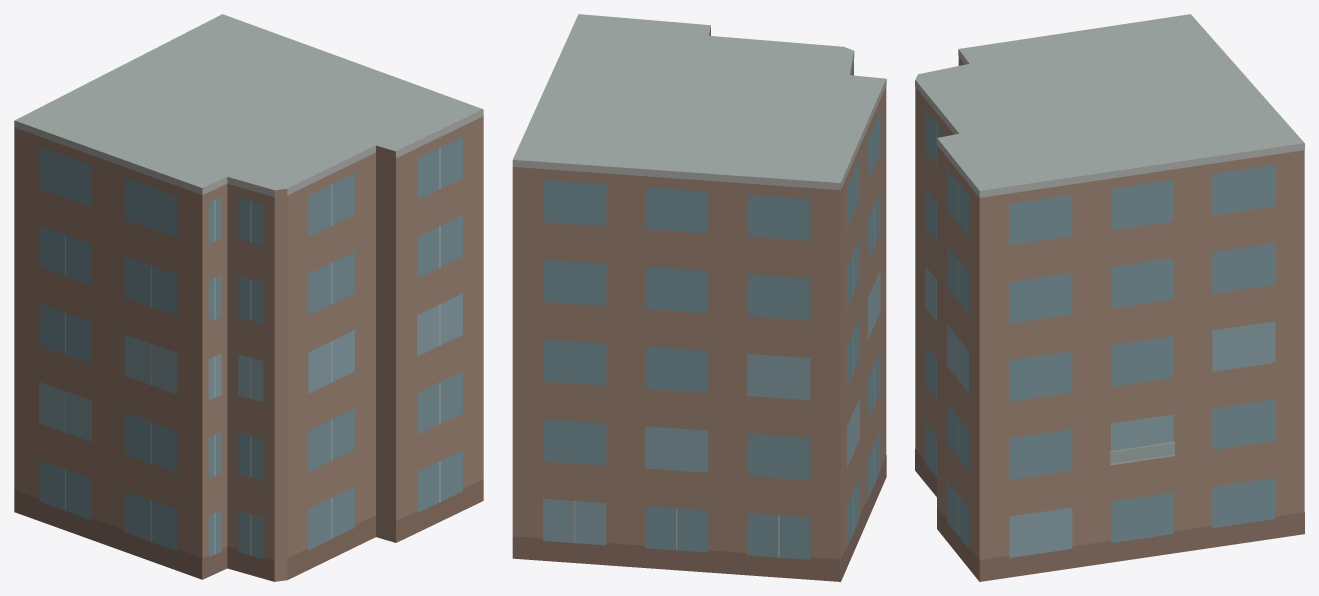
The model's file is survey-upis-32854435.glb.
The picture shows the model from 3 angles, left to right: view 1: azimuth 30°, elevation 25°; view 2: azimuth 150°, elevation 25°; view 3: azimuth 270°, elevation 25°; orthographic projection. The views are drawn at different scales.
Parts seen in each view (by area): view 1: survey-upis-32854435.tmp; view 2: survey-upis-32854435.tmp; view 3: survey-upis-32854435.tmp.
Part boxes in pixels (box(x1,y1,x2,y2)): survey-upis-32854435.tmp: box(14, 14, 483, 581); survey-upis-32854435.tmp: box(512, 14, 886, 581); survey-upis-32854435.tmp: box(915, 14, 1304, 581).
Size of the model in its own units: 13.41 by 13.8 by 12.48.
